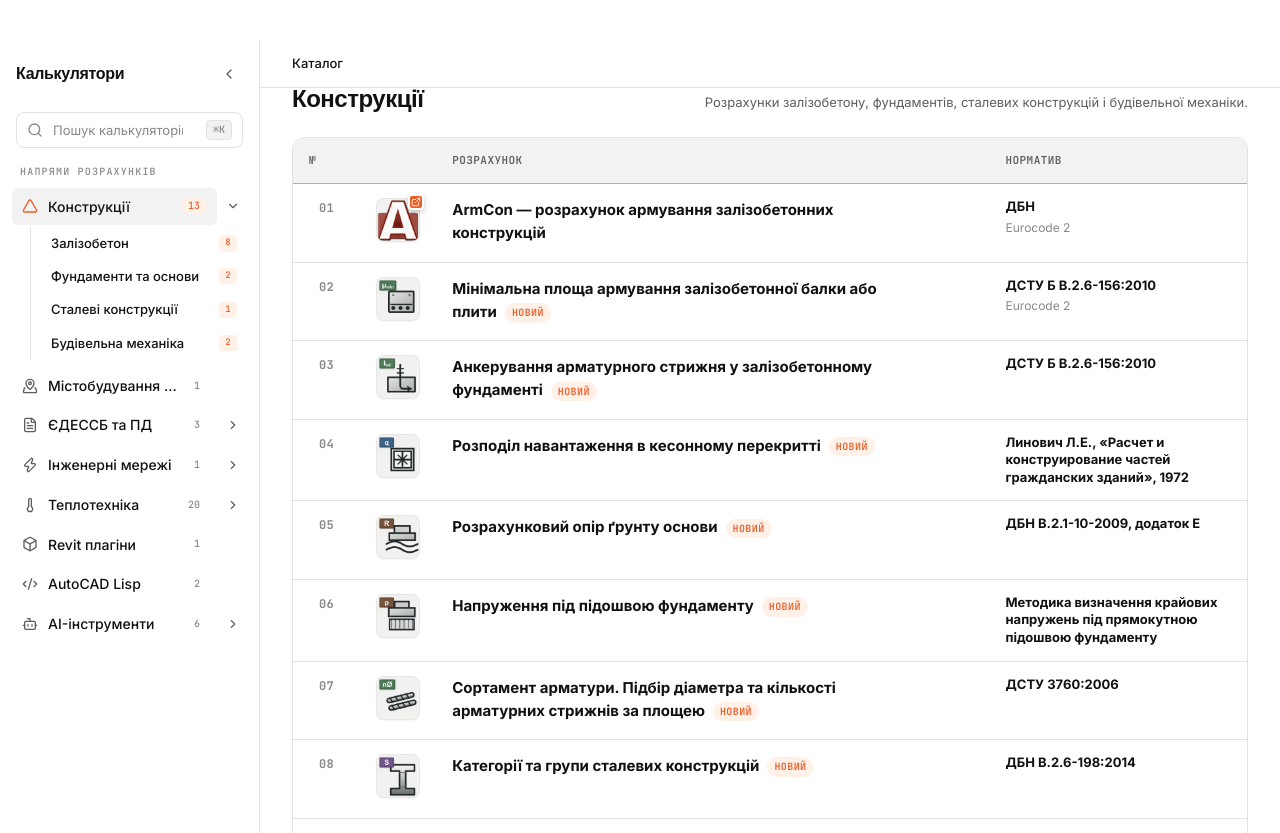
CalculatorShell › switches the homepage table when a category is selected
Click the link "Теплотехніка 20": (114, 504) [22,496,207,513]
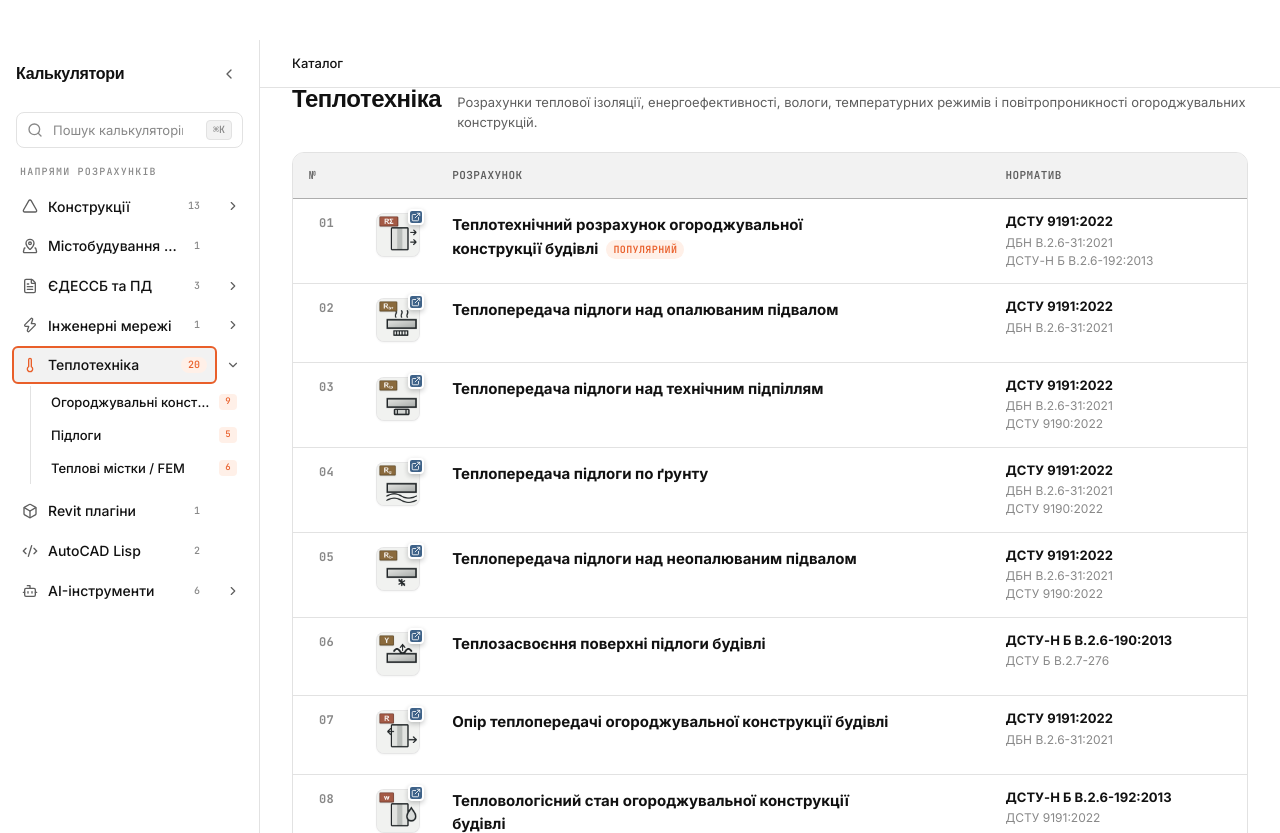
Now the heading "Теплотехніка" is shown, box [292,80,441,117]
Now the row "Опір теплопередачі" is shown, box [293,696,1247,774]
Now the link "Мінімальна площа армування залізобетонної балки або плити" is gone
